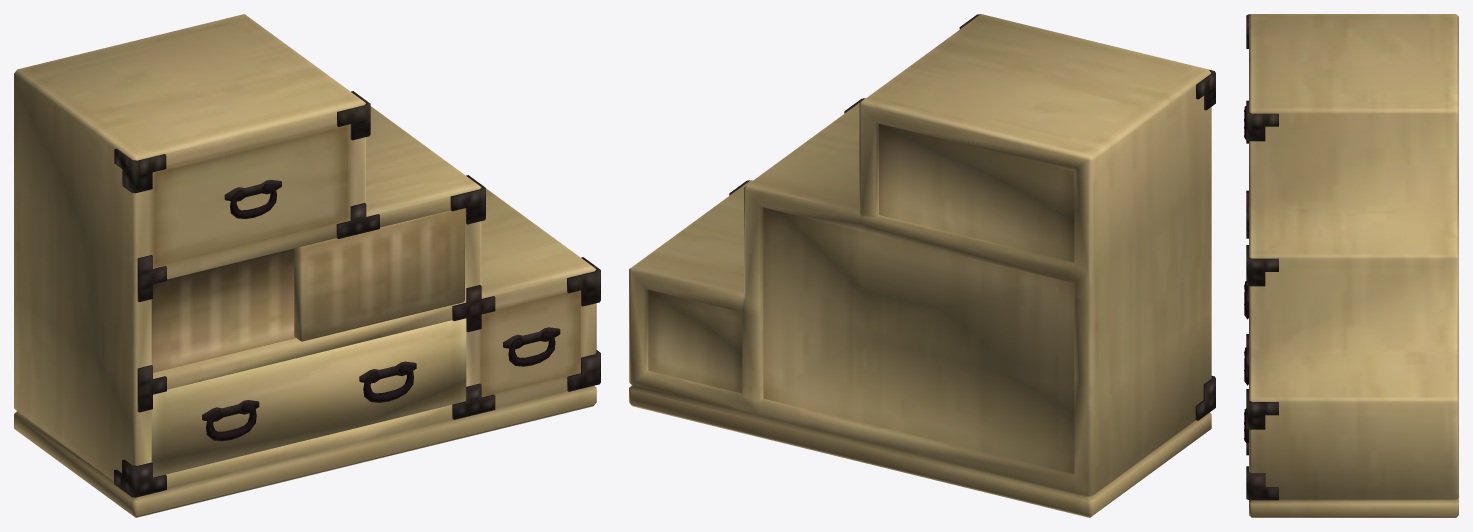
3 views of the same model, side by side, from view 1: azimuth 30°, elevation 25°; view 2: azimuth 150°, elevation 25°; view 3: azimuth 270°, elevation 25° (orthographic). The views are drawn at different scales.
Size of the model in its own units: 18.32 by 13.5 by 8.44.
1 material, 1 textured.
